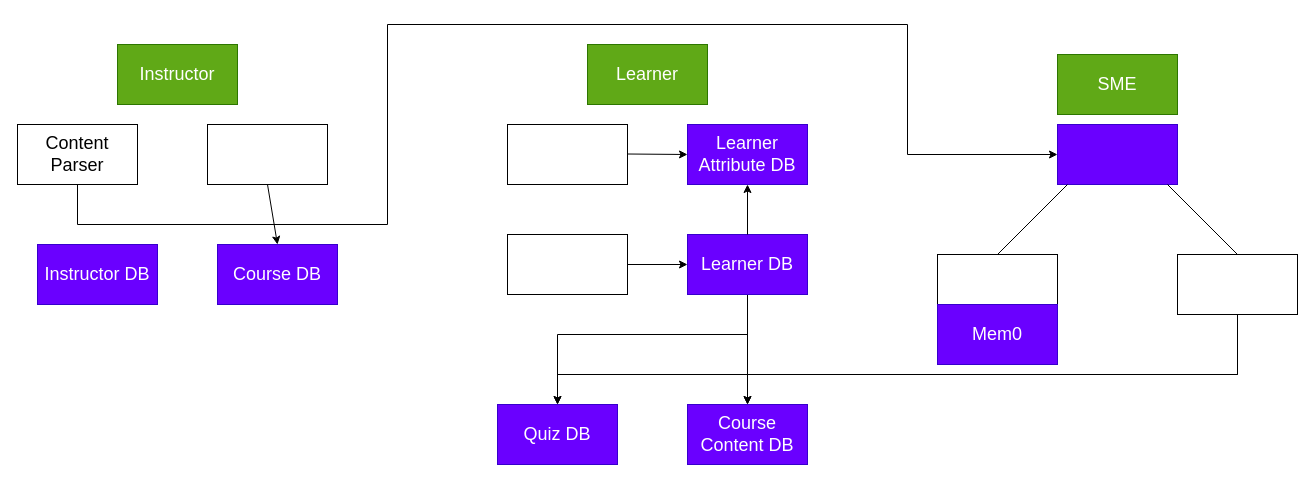
Image size: 1315x482. Some labels were removed from this diagram. Here are the shapes that lost their labels. From the top down, the centre of each, then its label:
pixel 267 154: Learning Objective Generator
pixel 567 154: Diagnostic Form
pixel 1117 154: Vector DB
pixel 567 264: Learner Orchestrator
pixel 997 284: Chat Head
pixel 1237 284: Content Head
